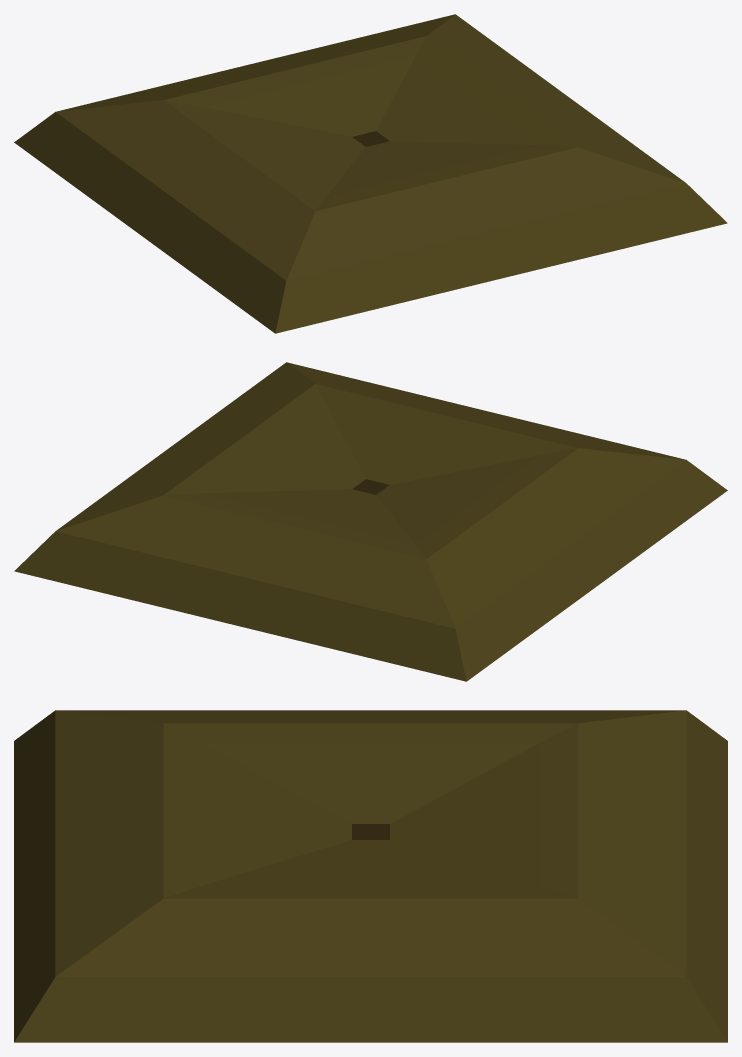
File: fa_plantedA_0.glb
3 views of the same model, one above another, from view 1: azimuth 30°, elevation 25°; view 2: azimuth 150°, elevation 25°; view 3: azimuth 270°, elevation 25° (orthographic). The views are drawn at different scales.
Parts seen in each view (by area): view 1: farmingArea_planted_0; view 2: farmingArea_planted_0; view 3: farmingArea_planted_0.
Boxes of the visible parts, left/top/right/bottom form: farmingArea_planted_0: left=14, top=14, right=727, bottom=333; farmingArea_planted_0: left=14, top=362, right=727, bottom=681; farmingArea_planted_0: left=14, top=710, right=727, bottom=1042.
Size of the model in its own units: 0.8 by 0.1 by 0.8.
